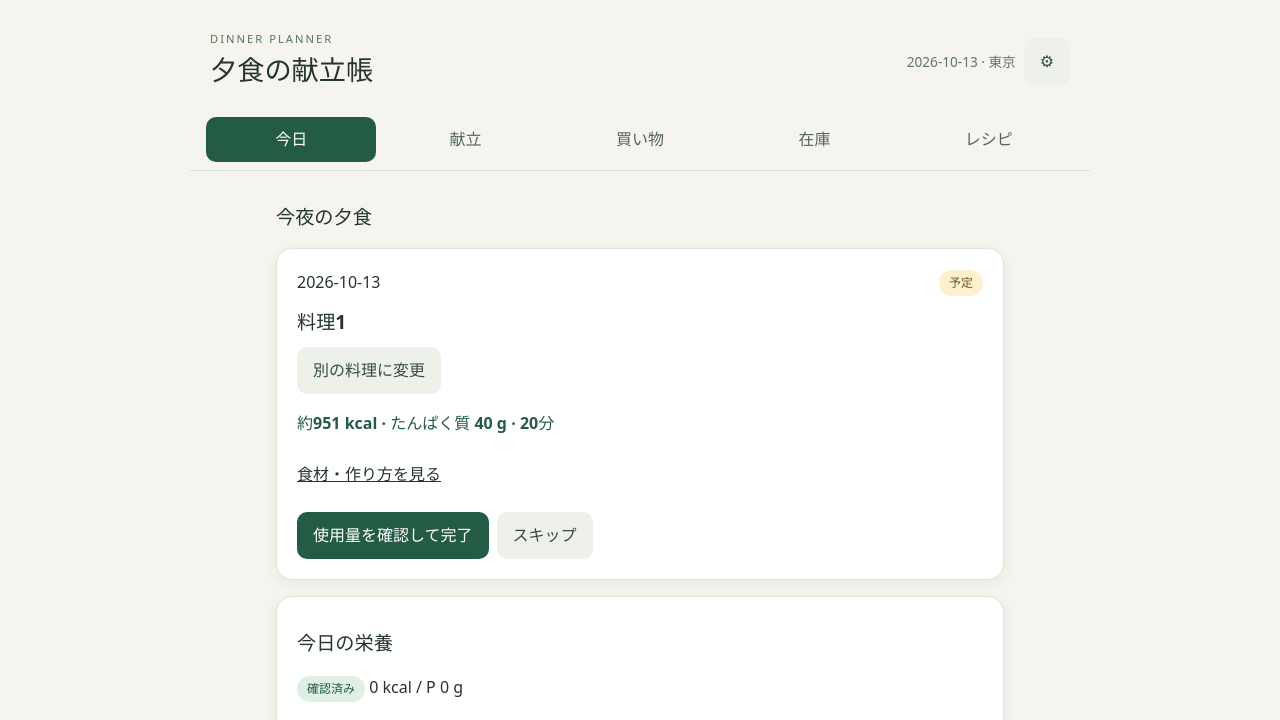
mobile daily flows › buys today in one action without a confirm dialog or weekday checkbox
This screenshot has width=1280, height=720.
Expected: the heading "今夜の夕食" is shown, [276,203,372,230]
What coordinates should you click on to do the following:
click the button "買い物"
I would click on:
 (640, 140)
Its box is [555,117,725,162].
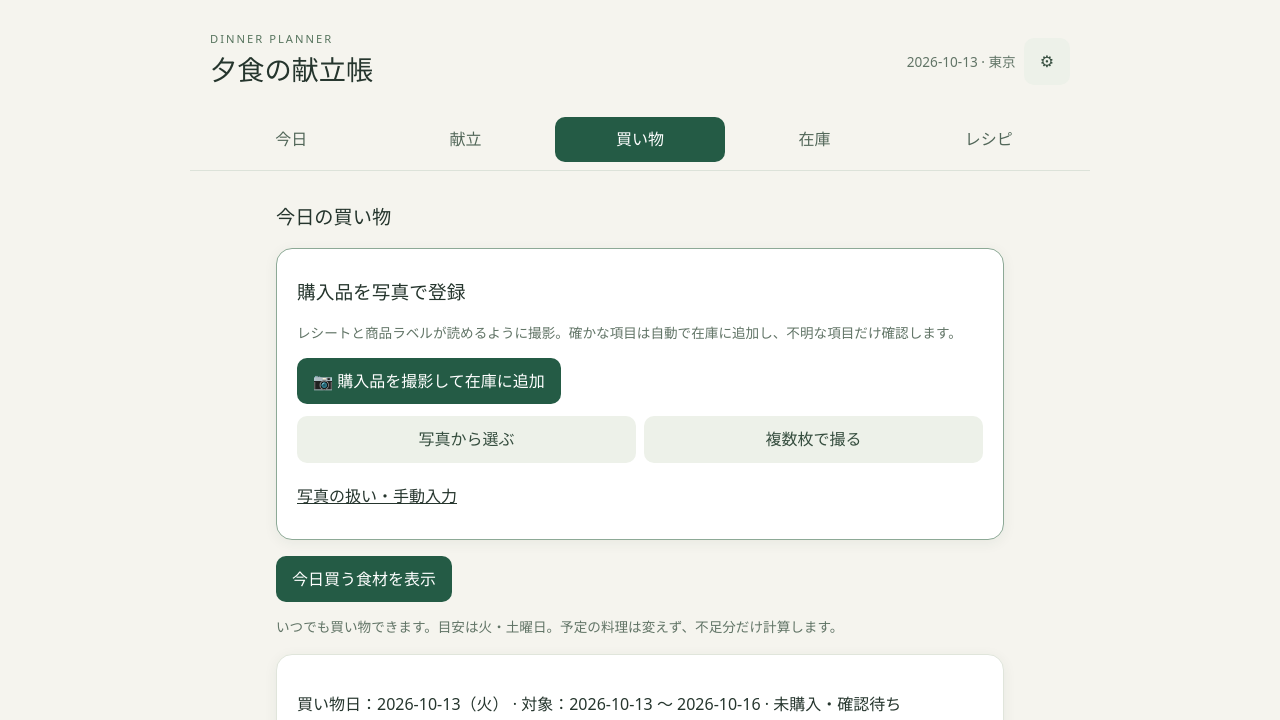
What coordinates should you click on to do the following:
click the button "今日買う食材を表示"
I would click on:
 (364, 579)
Its box is [276,556,452,602].
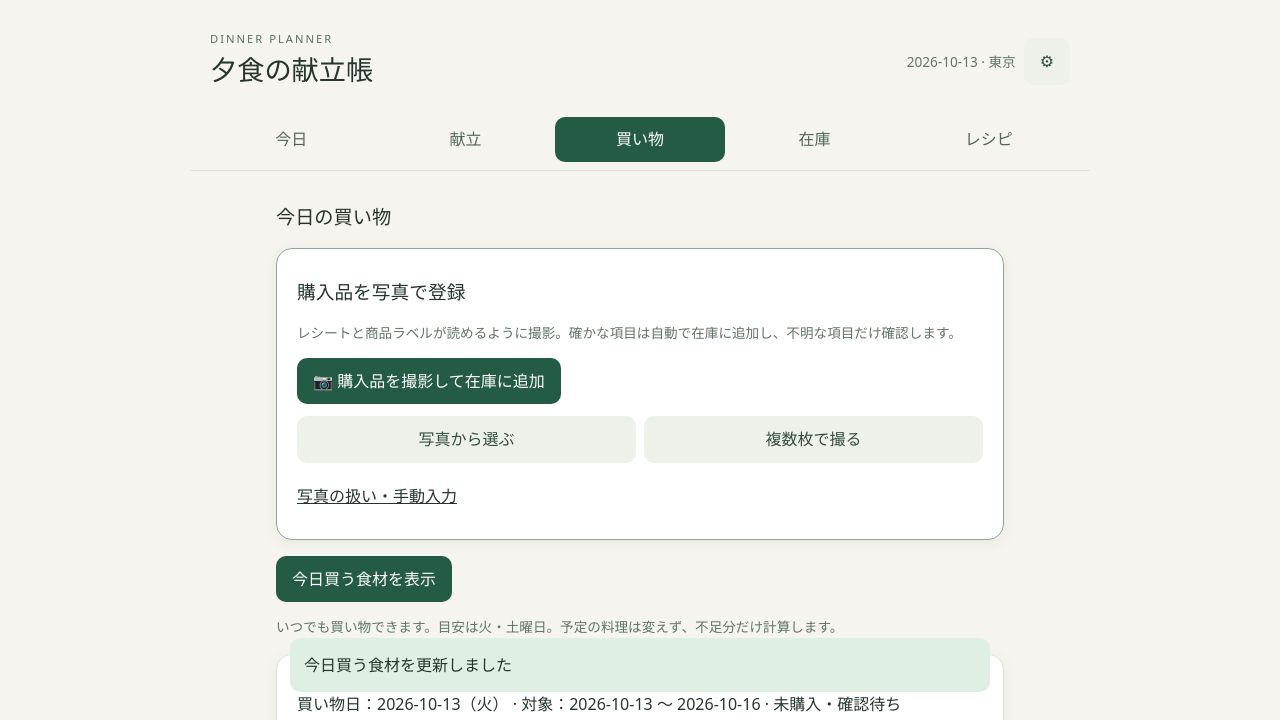
Expected: the text "今日買う食材を更新しました" is shown, [290,638,990,692]
